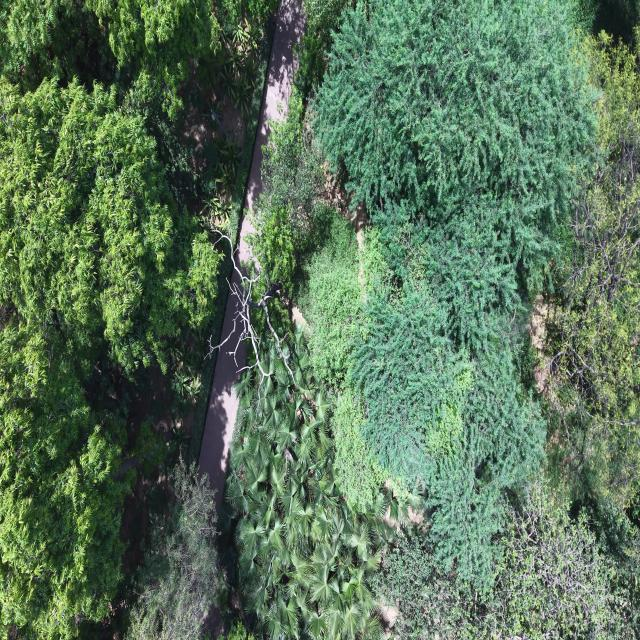DRY_AREA: (243, 0, 305, 210), (243, 0, 304, 210)
VEGETATION_TREE: (0, 0, 639, 639), (252, 0, 639, 638), (350, 5, 637, 637), (0, 0, 274, 638), (315, 0, 594, 589), (0, 81, 219, 637), (316, 0, 594, 306), (0, 81, 219, 373), (1, 0, 275, 220), (251, 92, 388, 514), (351, 292, 545, 586), (225, 330, 388, 639), (546, 33, 639, 518), (372, 479, 631, 639), (0, 318, 127, 637), (369, 482, 628, 637), (0, 0, 275, 120), (293, 204, 388, 512), (86, 0, 274, 119), (490, 480, 627, 637), (86, 0, 234, 118), (126, 459, 222, 639), (247, 89, 324, 297), (249, 89, 324, 291), (371, 527, 484, 639), (292, 205, 360, 389), (258, 91, 324, 249), (0, 0, 113, 89), (331, 388, 388, 513), (294, 0, 349, 100), (576, 0, 639, 45), (226, 622, 253, 639)
